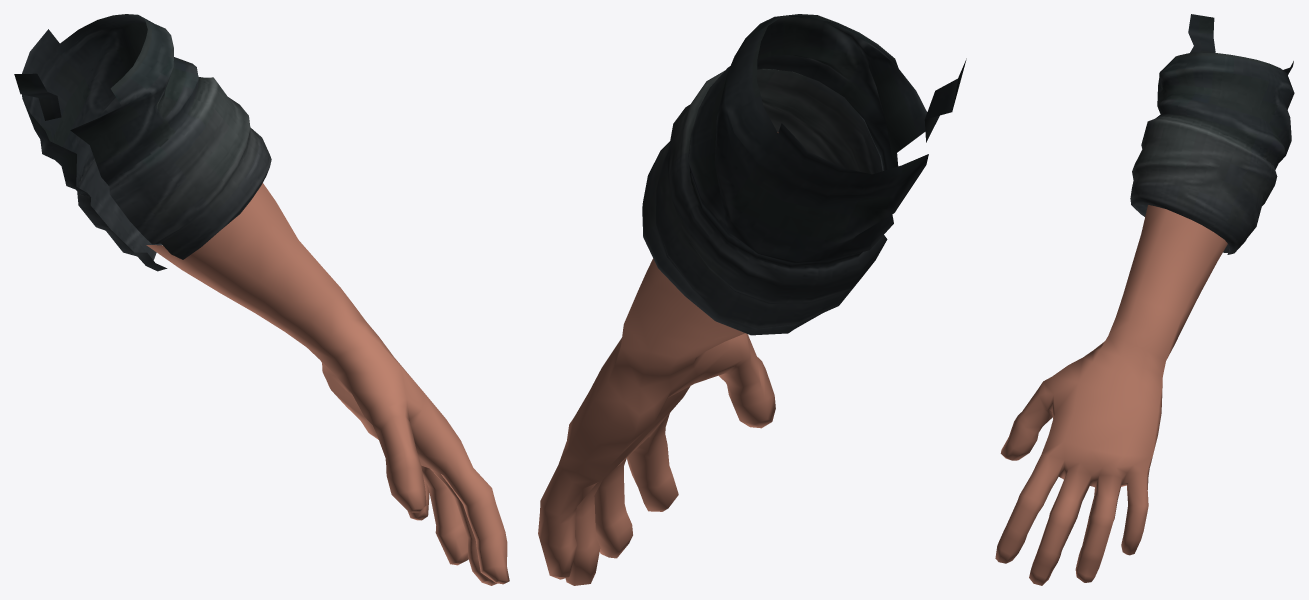
The model's file is estudiante1_manoizq.glb.
3 views of the same model, side by side, from view 1: azimuth 30°, elevation 25°; view 2: azimuth 150°, elevation 25°; view 3: azimuth 270°, elevation 25° (orthographic). The views are drawn at different scales.
Parts seen in each view (by area): view 1: Object_23.004; view 2: Object_23.004; view 3: Object_23.004.
Part boxes in pixels (bbox=[...]): Object_23.004: bbox=[14, 14, 509, 585]; Object_23.004: bbox=[538, 14, 966, 585]; Object_23.004: bbox=[995, 14, 1294, 585].
Bounding box in the file's own units: 0.3082 × 0.4178 × 0.2588.
Materials: 2 (2 with a texture image).
